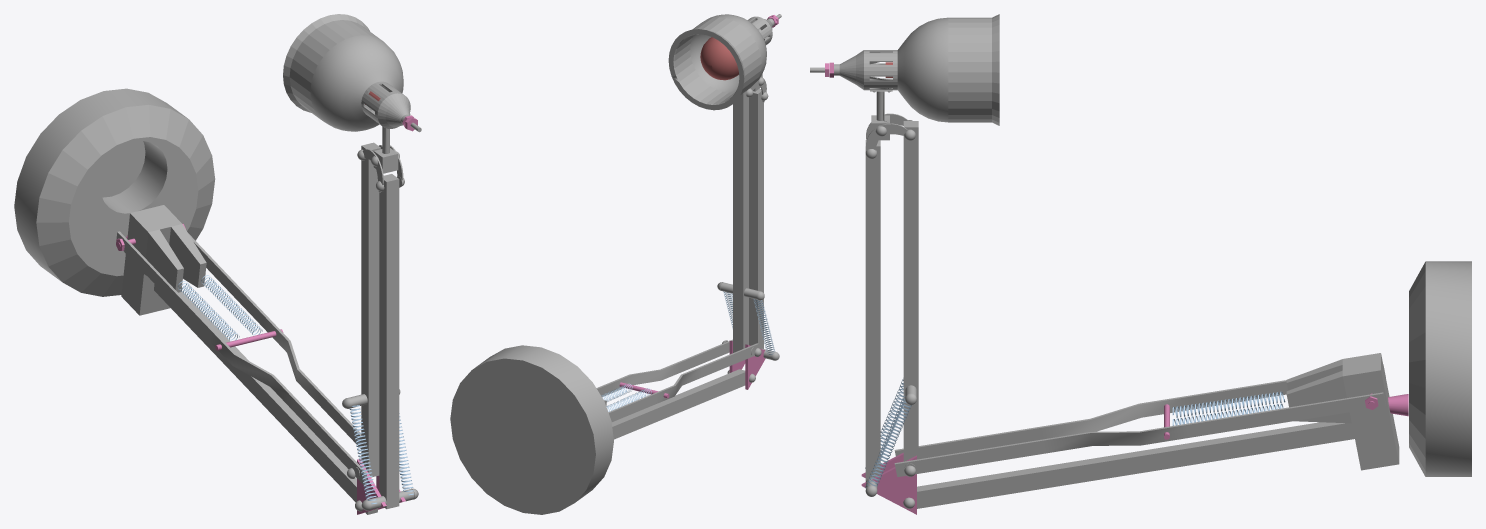
Rendered from tablelamp.obj.
3 views of the same model, side by side, from view 1: azimuth 30°, elevation 25°; view 2: azimuth 150°, elevation 25°; view 3: azimuth 270°, elevation 25° (orthographic). The views are drawn at different scales.
Visible parts, largest first — view 1: Cylinder05, Sphere01, Box01, Box02, Box06, Box03, Box04, Box05, Helix01, Helix04, Helix03, Sphere02 (+1 smaller); view 2: Cylinder05, Sphere01, Box02, Box01, Box03, Box04, Box05, light_bulb, Helix01, NGon03; view 3: Cylinder05, Sphere01, Box03, Box05, Box06, Box04, Box01, Box02, NGon04, Helix03, Helix02.
Boxes of the visible parts, <box> form: Cylinder05: <box>14,88,215,296</box>; Sphere01: <box>283,14,410,131</box>; Box01: <box>379,174,399,509</box>; Box02: <box>361,142,380,477</box>; Box06: <box>121,205,206,315</box>; Box03: <box>154,284,377,514</box>; Box04: <box>116,231,366,484</box>; Box05: <box>188,233,361,448</box>; Helix01: <box>349,405,377,504</box>; Helix04: <box>201,275,262,335</box>; Helix03: <box>177,281,239,340</box>; Sphere02: <box>373,122,398,173</box>; Cylinder05: <box>450,345,613,514</box>; Sphere01: <box>668,14,774,110</box>; Box02: <box>733,90,748,352</box>; Box01: <box>749,88,763,348</box>; Box03: <box>611,369,745,439</box>; Box04: <box>608,343,758,421</box>; Box05: <box>596,339,732,396</box>; light_bulb: <box>700,37,738,80</box>; Helix01: <box>753,299,775,354</box>; NGon03: <box>745,344,765,389</box>; Cylinder05: <box>1409,261,1471,476</box>; Sphere01: <box>834,14,999,125</box>; Box03: <box>917,422,1354,508</box>; Box05: <box>894,392,1385,476</box>; Box06: <box>1286,353,1399,470</box>; Box04: <box>894,365,1385,459</box>; Box01: <box>865,140,880,488</box>; Box02: <box>903,121,918,461</box>; NGon04: <box>861,455,916,514</box>; Helix03: <box>1172,391,1285,417</box>; Helix02: <box>865,396,911,488</box>.
Size of the model in its own units: 286 by 715 by 875.
